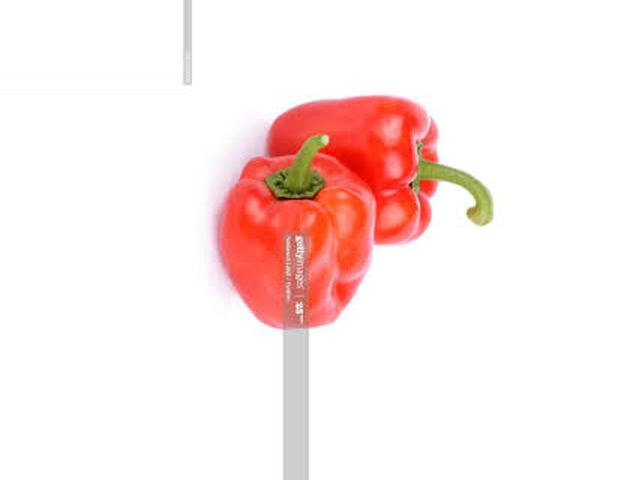bell_pepper: (219, 138, 388, 350)
